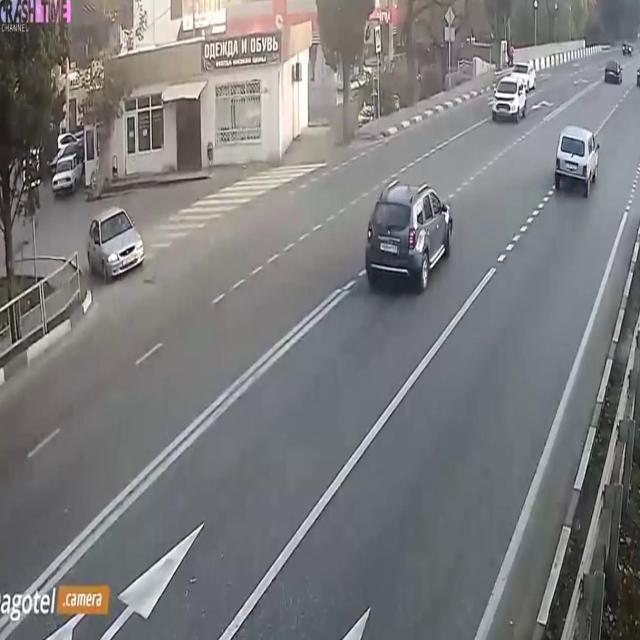non_accident: (487, 52, 540, 132)
